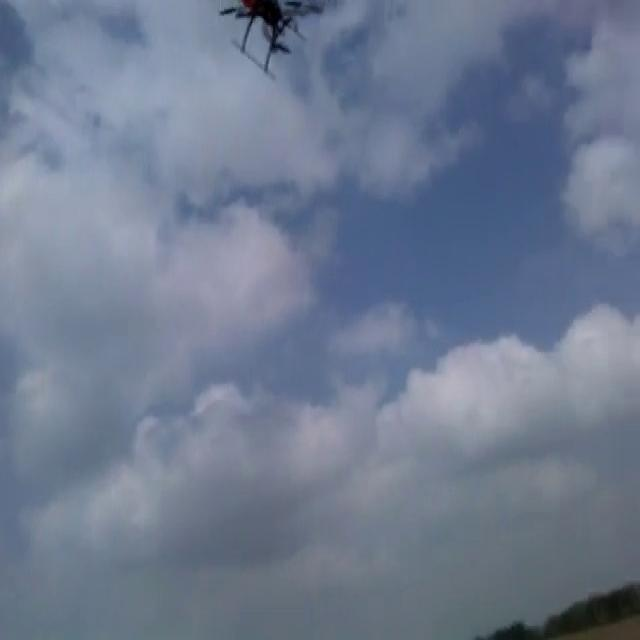drone: (217, 0, 325, 80)
